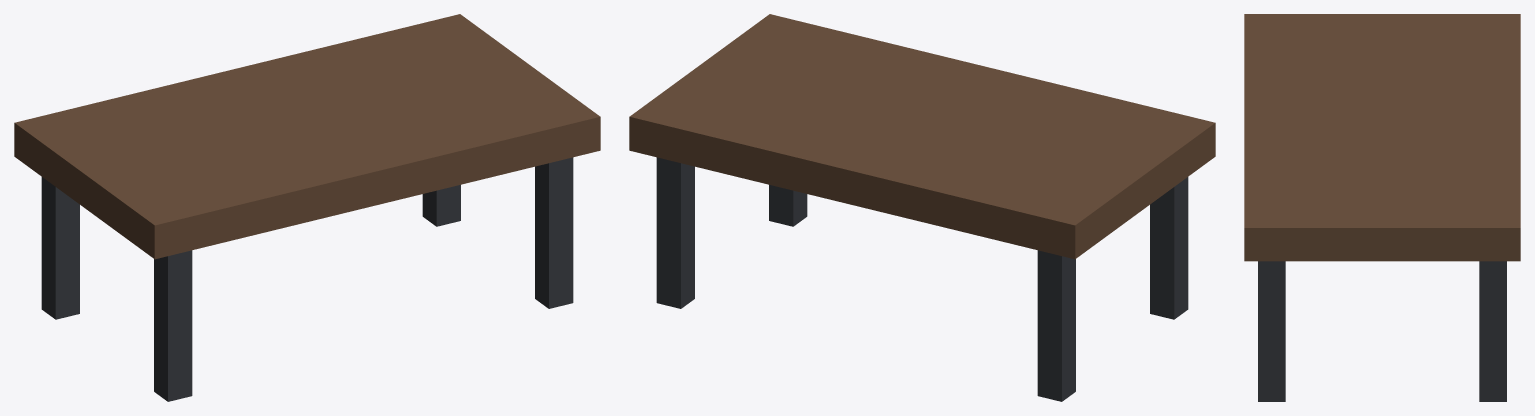
File: coffeeTable.glb
3 views of the same model, side by side, from view 1: azimuth 30°, elevation 25°; view 2: azimuth 150°, elevation 25°; view 3: azimuth 270°, elevation 25° (orthographic).
Size of the model in its own units: 1.1 by 0.44 by 0.6.
